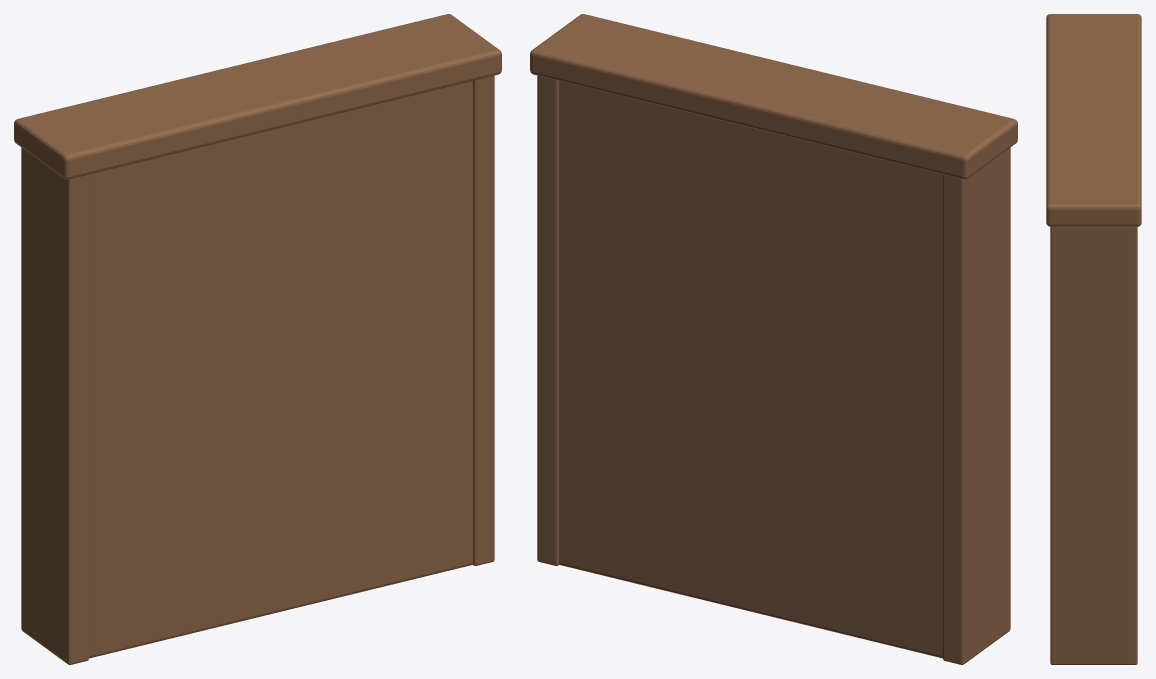
The model's file is grand_bookshelf.glb.
The picture shows the model from 3 angles, left to right: view 1: azimuth 30°, elevation 25°; view 2: azimuth 150°, elevation 25°; view 3: azimuth 270°, elevation 25°; orthographic projection. The views are drawn at different scales.
Parts seen in each view (by area): view 1: ShelfFrame, ShelfCornice, Pilaster_-1.55, Pilaster_1.55; view 2: ShelfFrame, ShelfCornice, Pilaster_-1.55, Pilaster_1.55; view 3: Pilaster_1.55, ShelfCornice.
Boxes of the visible parts, bbox=[...] form: ShelfFrame: bbox=[89, 81, 472, 658]; ShelfCornice: bbox=[14, 14, 501, 179]; Pilaster_-1.55: bbox=[21, 147, 88, 664]; Pilaster_1.55: bbox=[472, 75, 494, 565]; ShelfFrame: bbox=[559, 81, 942, 658]; ShelfCornice: bbox=[530, 14, 1017, 179]; Pilaster_-1.55: bbox=[943, 147, 1010, 664]; Pilaster_1.55: bbox=[537, 75, 559, 565]; Pilaster_1.55: bbox=[1050, 226, 1137, 664]; ShelfCornice: bbox=[1046, 14, 1141, 226].
Size of the model in its own units: 3.35 by 3.74 by 0.7.
